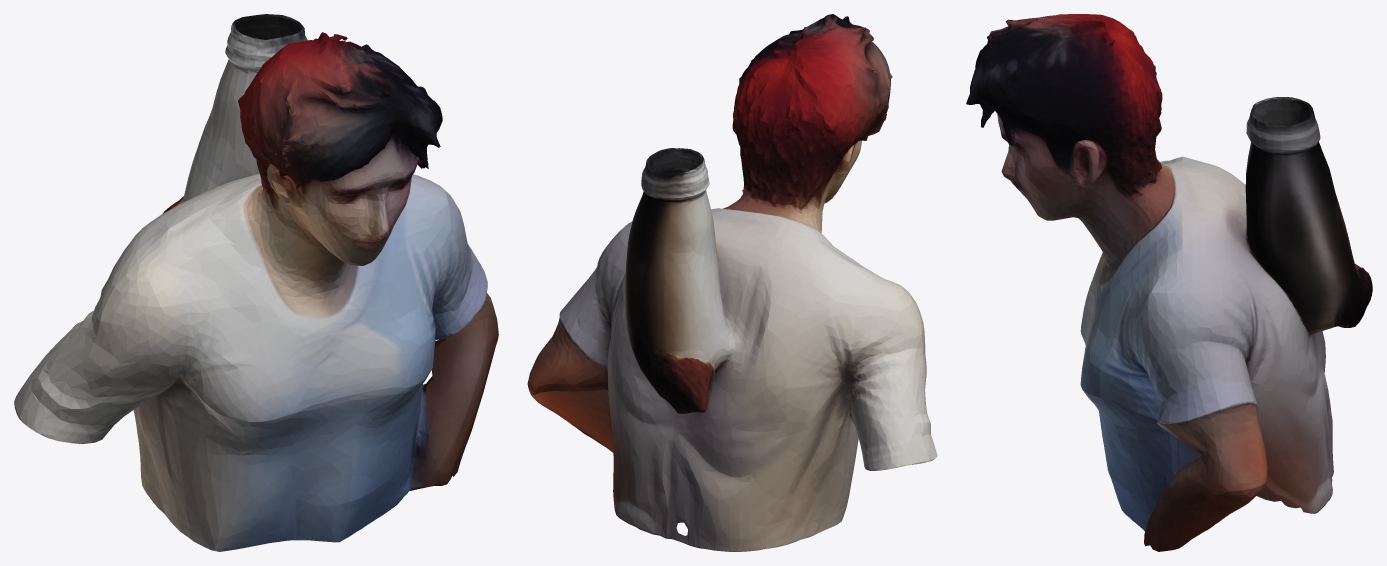
File: athlete-male.glb
3 views of the same model, side by side, from view 1: azimuth 30°, elevation 25°; view 2: azimuth 150°, elevation 25°; view 3: azimuth 270°, elevation 25° (orthographic). The views are drawn at different scales.
Parts seen in each view (by area): view 1: world; view 2: world; view 3: world.
Boxes of the visible parts, x1,y1,x2,y2 form: world: (14, 14, 498, 551); world: (527, 14, 937, 551); world: (966, 14, 1372, 551).
Size of the model in its own units: 0.7826 by 0.831 by 0.6413.
1 material, 1 textured.
